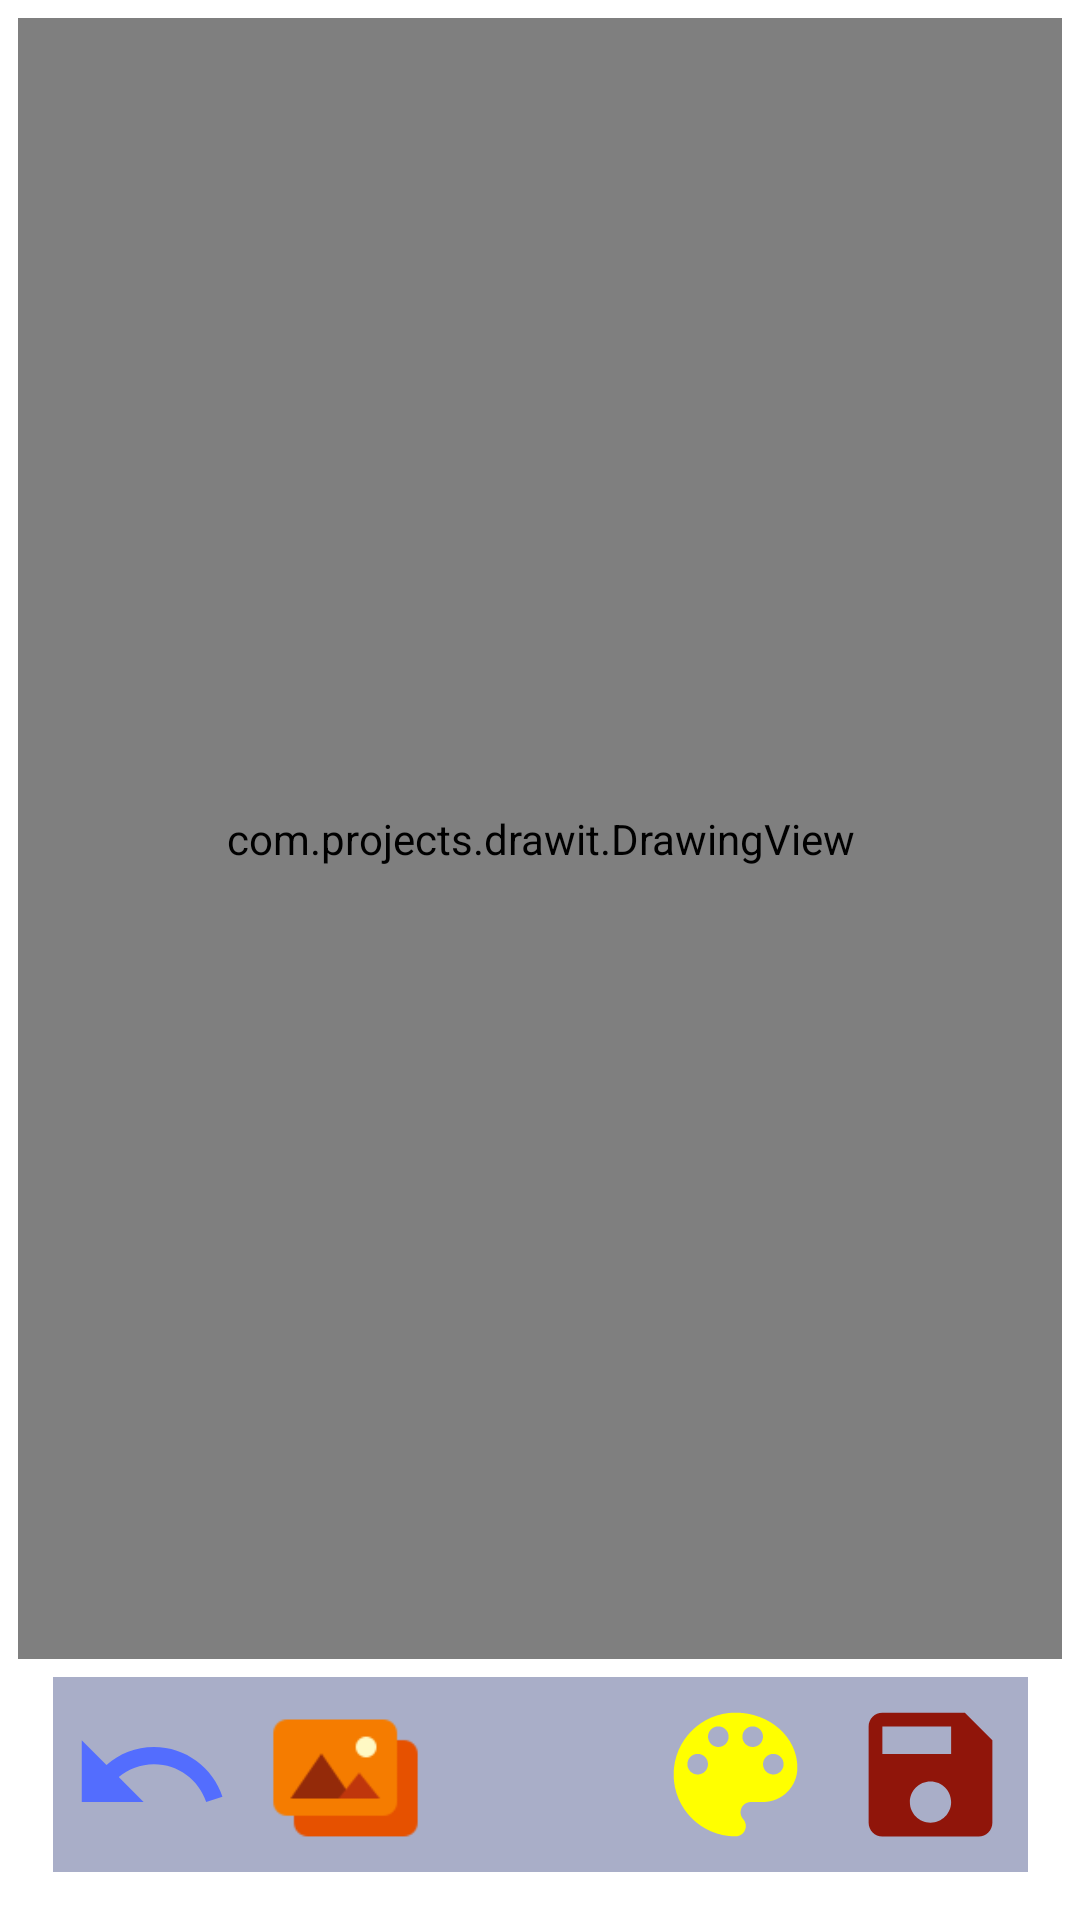

Icon bounding boxes for this 1080 x 1920 phone screenshot, format (x1, y1, x2, y2):
gallery: (273, 1719, 418, 1837)
Save to Gallery: (868, 1712, 993, 1837)
undo: (82, 1741, 222, 1802)
